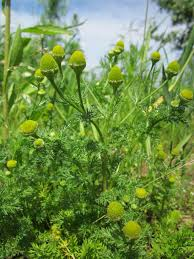pineple: (29, 57, 137, 152)
